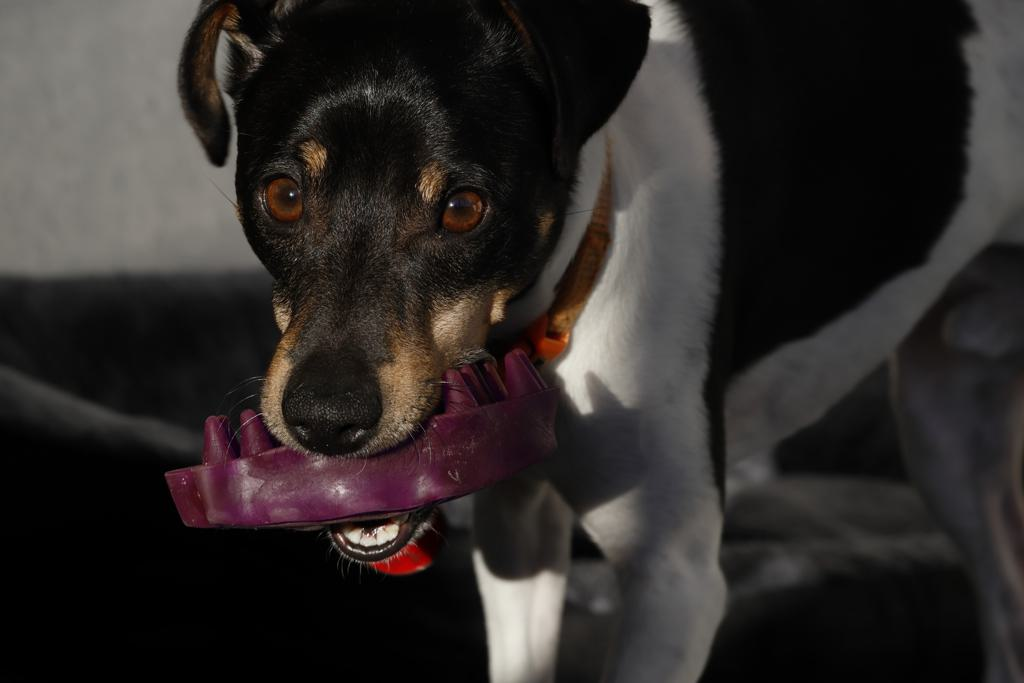Dog: (161, 0, 1024, 683)
